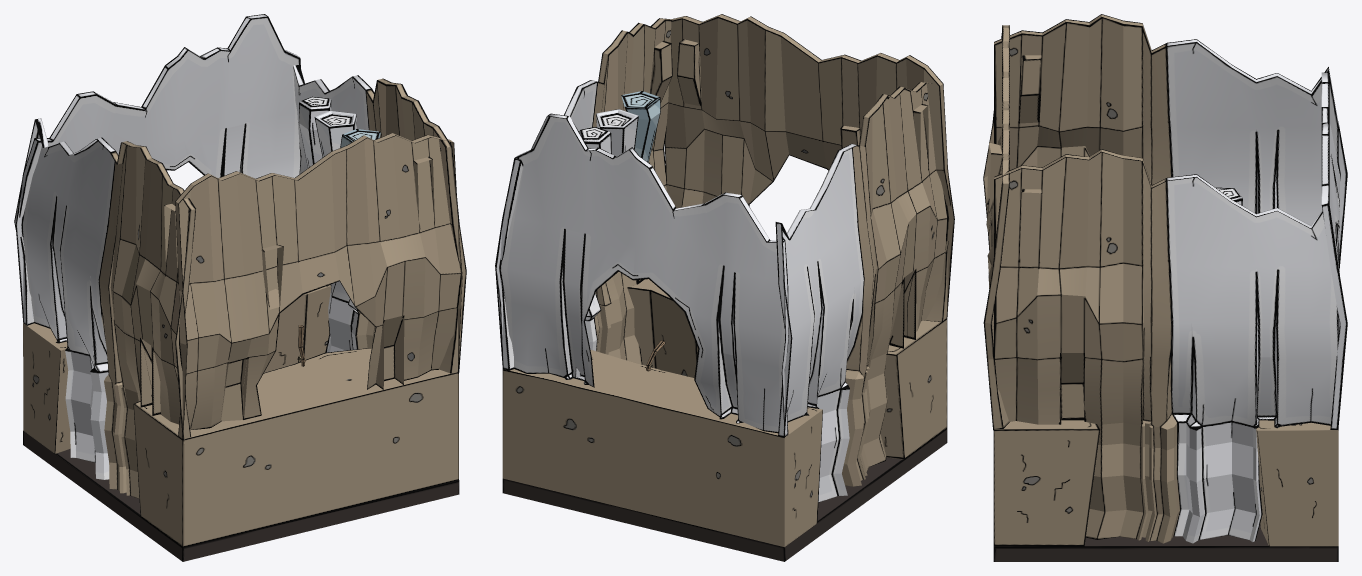
The model's file is Grotte_pont.fbx.
3 renders of one model, left to right at view 1: azimuth 30°, elevation 25°; view 2: azimuth 150°, elevation 25°; view 3: azimuth 270°, elevation 25°, orthographic. The views are drawn at different scales.
Visible parts, largest first — view 1: murs_rocheux_entree2, mur_L, Falaise_bord_1, mur_glace5, mur_R, falaise_bord_2, sol10, Stalactite2, Stalactite_1; view 2: mur_glace5, mur_L, falaise_bord_2, murs_rocheux_entree2, mur_R, Falaise_bord_1, sol10, Stalactite3, Stalactite_1, Stalactite2; view 3: mur_R, mur_L, Falaise_bord_1, falaise_bord_2, sol10, murs_rocheux_entree2, mur_glace5.
Boxes of the visible parts, box(x1,y1,x2,y2) form: murs_rocheux_entree2: box(175, 133, 462, 439); mur_L: box(15, 118, 195, 498); Falaise_bord_1: box(133, 348, 458, 547); mur_glace5: box(14, 14, 300, 325); mur_R: box(293, 65, 466, 373); falaise_bord_2: box(23, 285, 331, 453); sol10: box(23, 431, 459, 561); Stalactite2: box(298, 96, 331, 167); Stalactite_1: box(314, 110, 356, 157); mur_glace5: box(495, 113, 788, 436); mur_L: box(775, 82, 954, 502); falaise_bord_2: box(502, 349, 822, 547); murs_rocheux_entree2: box(665, 14, 950, 321); mur_R: box(495, 18, 672, 370); Falaise_bord_1: box(627, 279, 947, 459); sol10: box(502, 428, 947, 561); Stalactite3: box(621, 91, 660, 162); Stalactite_1: box(596, 109, 638, 156); Stalactite2: box(578, 127, 611, 153); mur_R: box(994, 149, 1338, 543); mur_L: box(994, 14, 1338, 261); Falaise_bord_1: box(993, 420, 1100, 546); falaise_bord_2: box(1256, 420, 1338, 546); sol10: box(993, 524, 1338, 561); murs_rocheux_entree2: box(983, 25, 1009, 430); mur_glace5: box(1321, 72, 1347, 429).
Size of the model in its own units: 843 by 1045 by 845.
